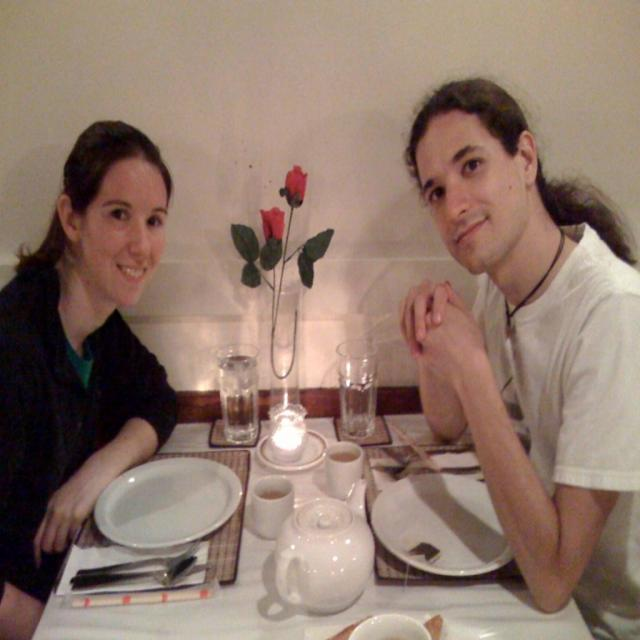non-organic waste: (369, 455, 535, 600), (103, 452, 251, 572), (255, 415, 382, 513)
